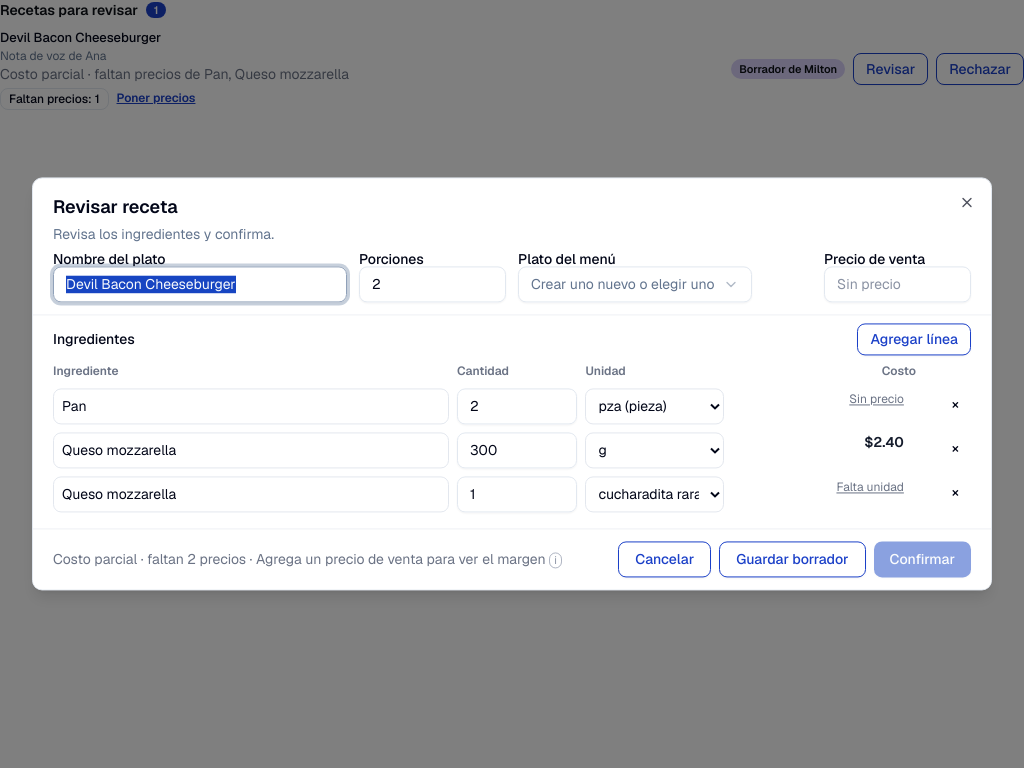
Test: units are a dropdown › the modal shows the mapped unit; an unknown one leaves the dropdown empty and Confirmar disabled until chosen
Expected: the button "Confirmar" is disabled, [874,542,971,578]
Select "kg" in the dropdown named "Unidad de la línea 3": (655, 495) [585,477,724,513]
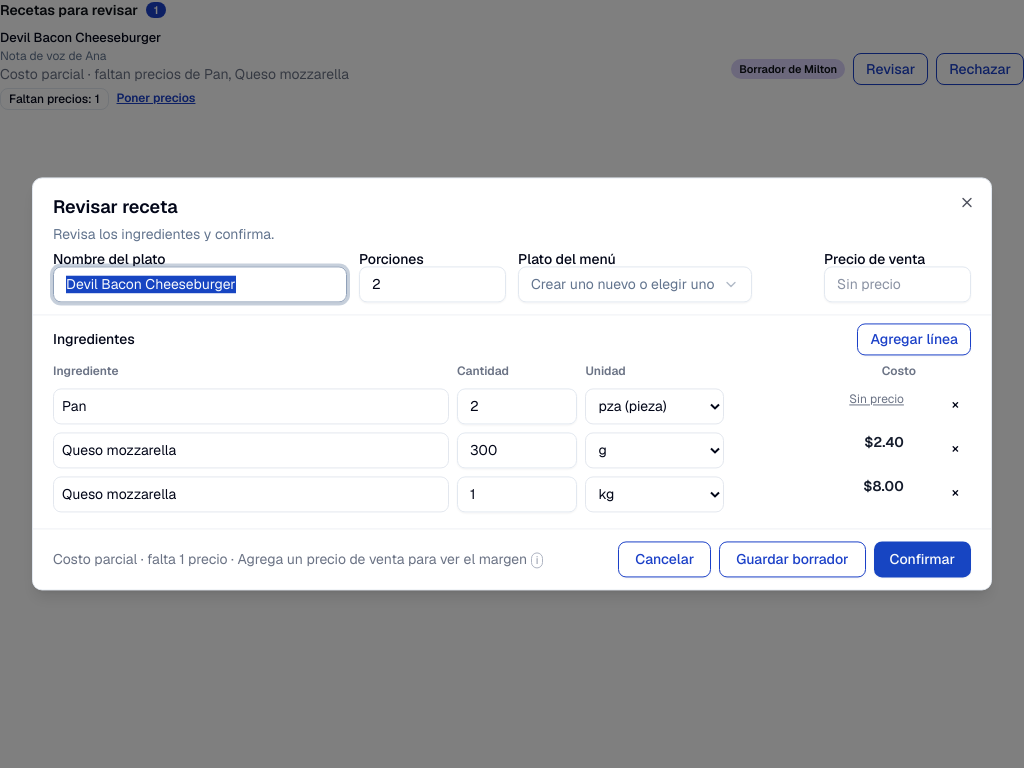
Expected: the button "Confirmar" is enabled, [874,542,971,578]
